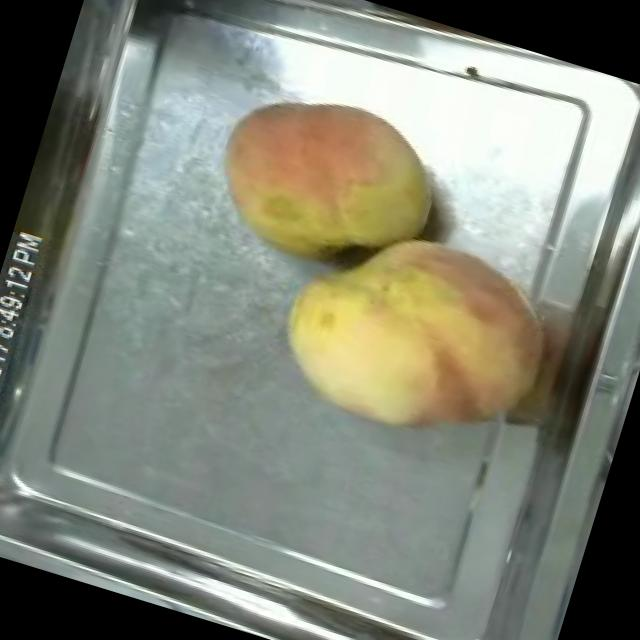Fruit: (256, 192, 572, 470), (192, 64, 460, 300)
